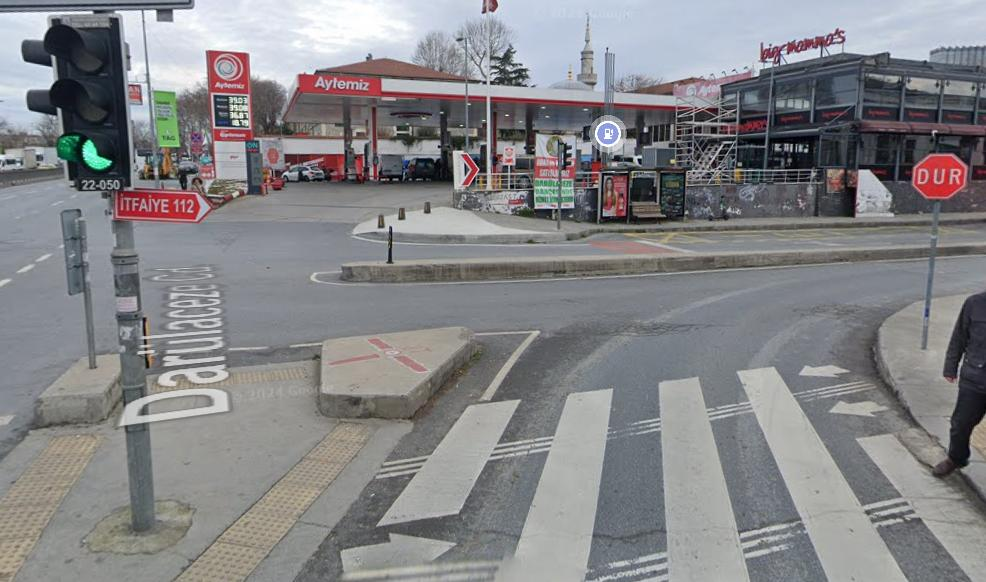greenlight: (54, 22, 127, 190)
stop: (914, 155, 965, 200)
